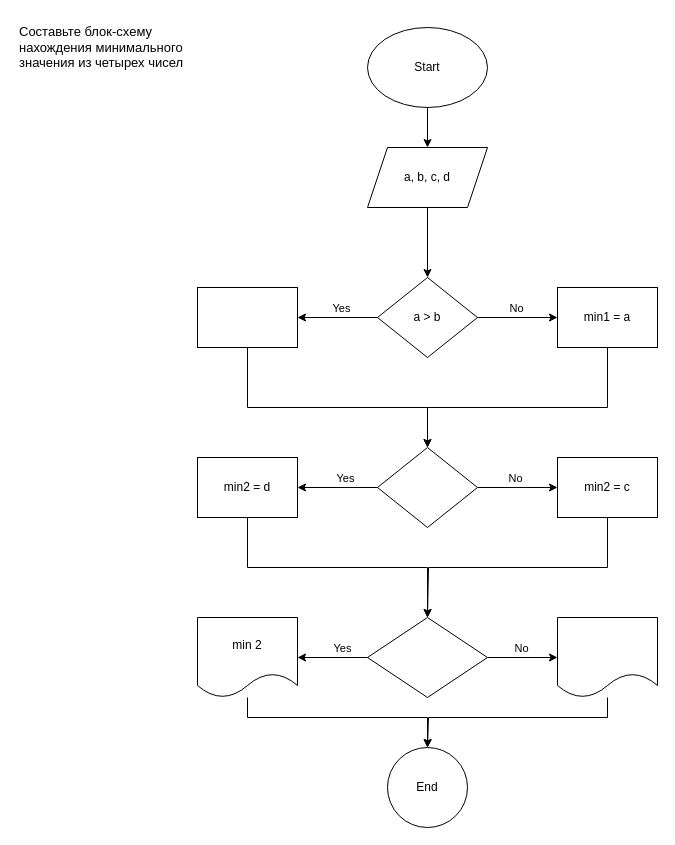
This 675x845 diagram has some shape labels left out. Here are the shapes that lost their labels. From the top down, the centre of each, then its label:
[247,317]: min1 = b
[427,487]: c > d
[427,657]: min1 > min2
[607,657]: min 1
